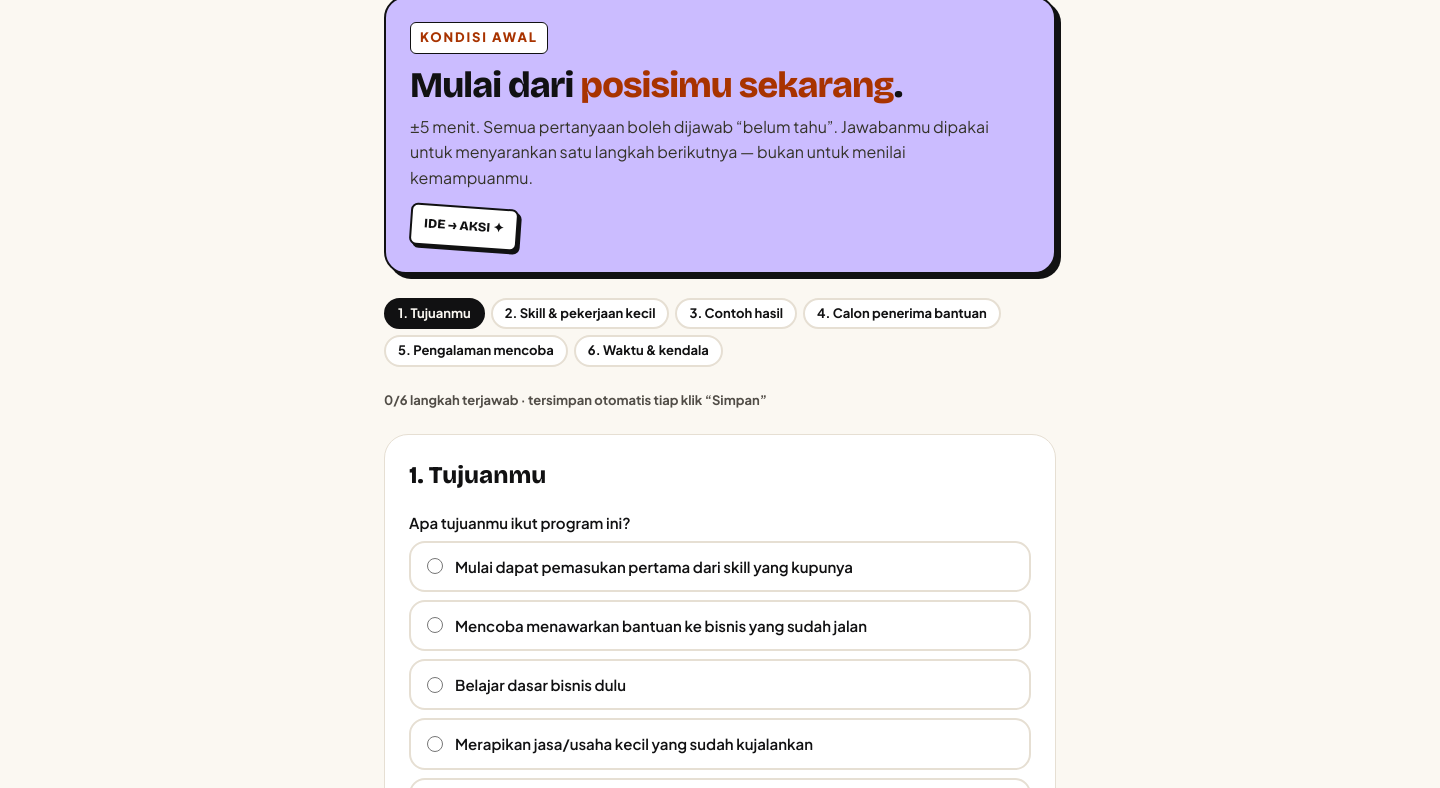
Test: Kondisi Awal — formulir › gagal menyimpan: pesan error, jawaban tetap di layar, tidak pindah langkah
Click the radio button labelled "Belajar dasar bisnis dulu". click: point(435, 685)
box: [427,677,443,693]
(page scrolled)
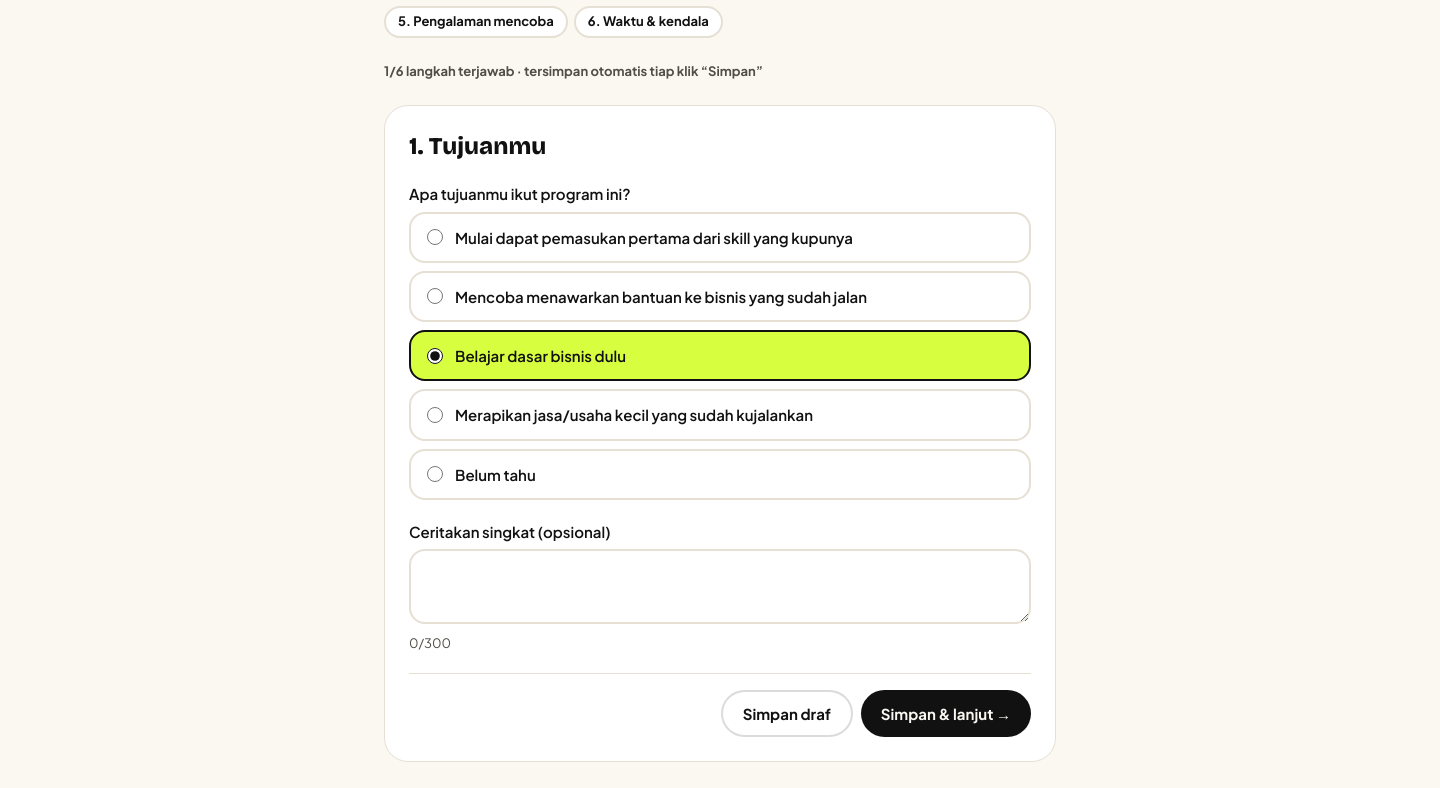
Click the button "Simpan & lanjut →". click: point(946, 714)
box: [861,690,1031,737]
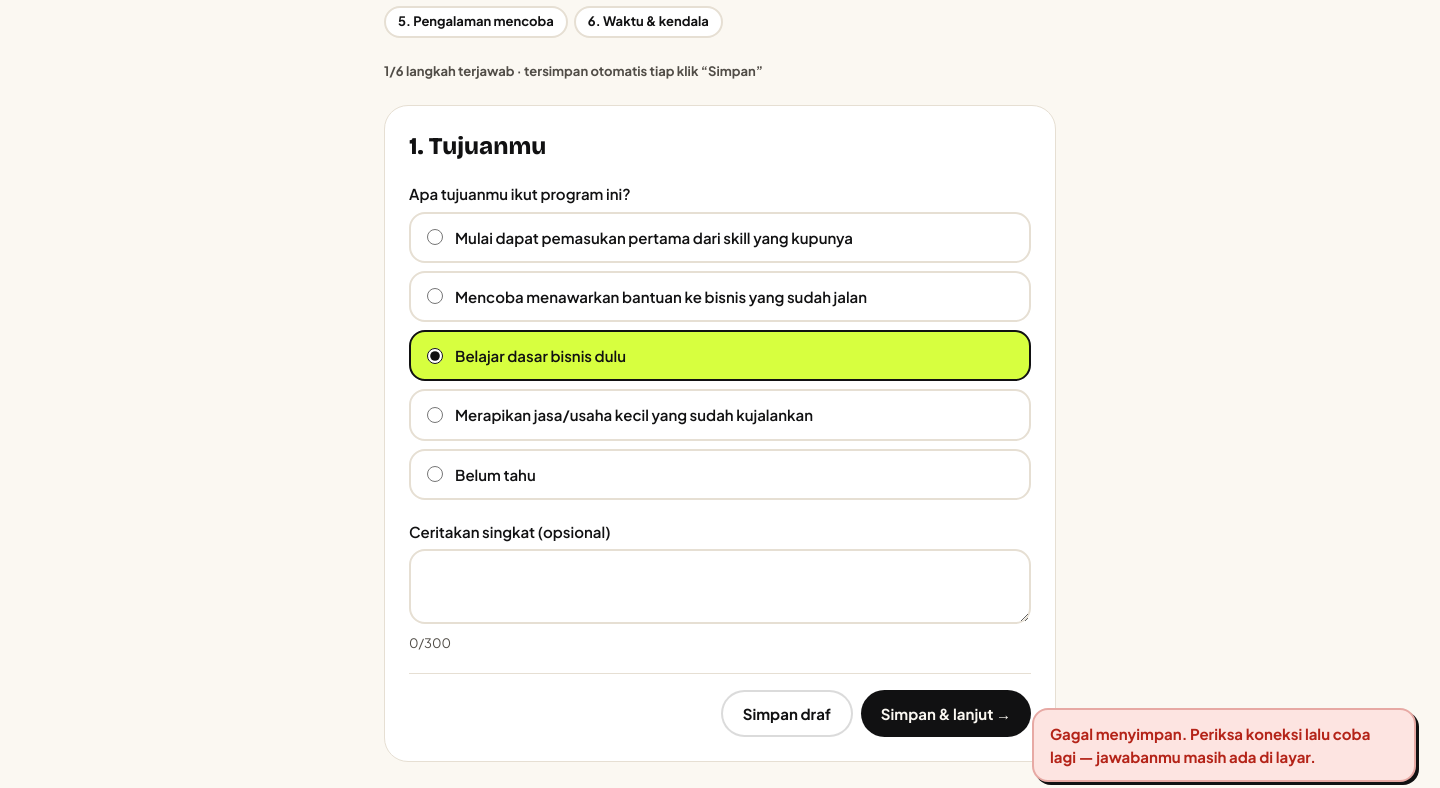
Check: the heading "1. Tujuanmu" is shown, box [409,132,546,160]
Check: the radio button labelled "Belajar dasar bisnis dulu" is checked, box [427,348,443,364]
Check: the text "Gagal menyimpan" is shown, box [1050,724,1370,766]
